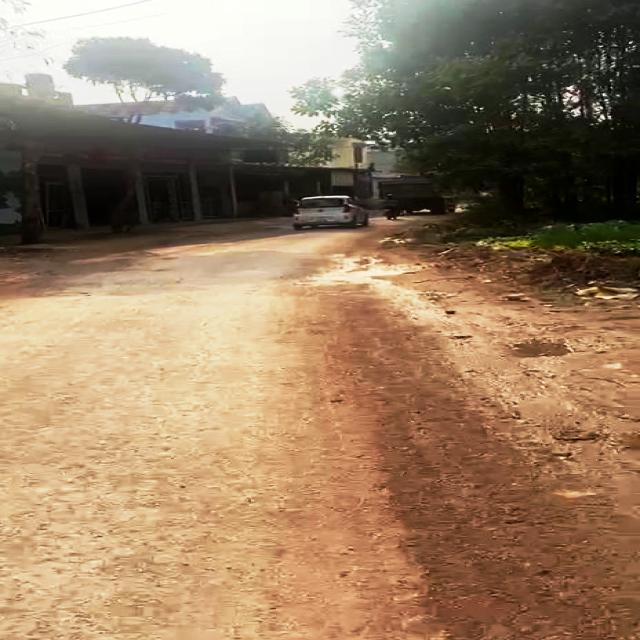pothole: (509, 333, 581, 361)
